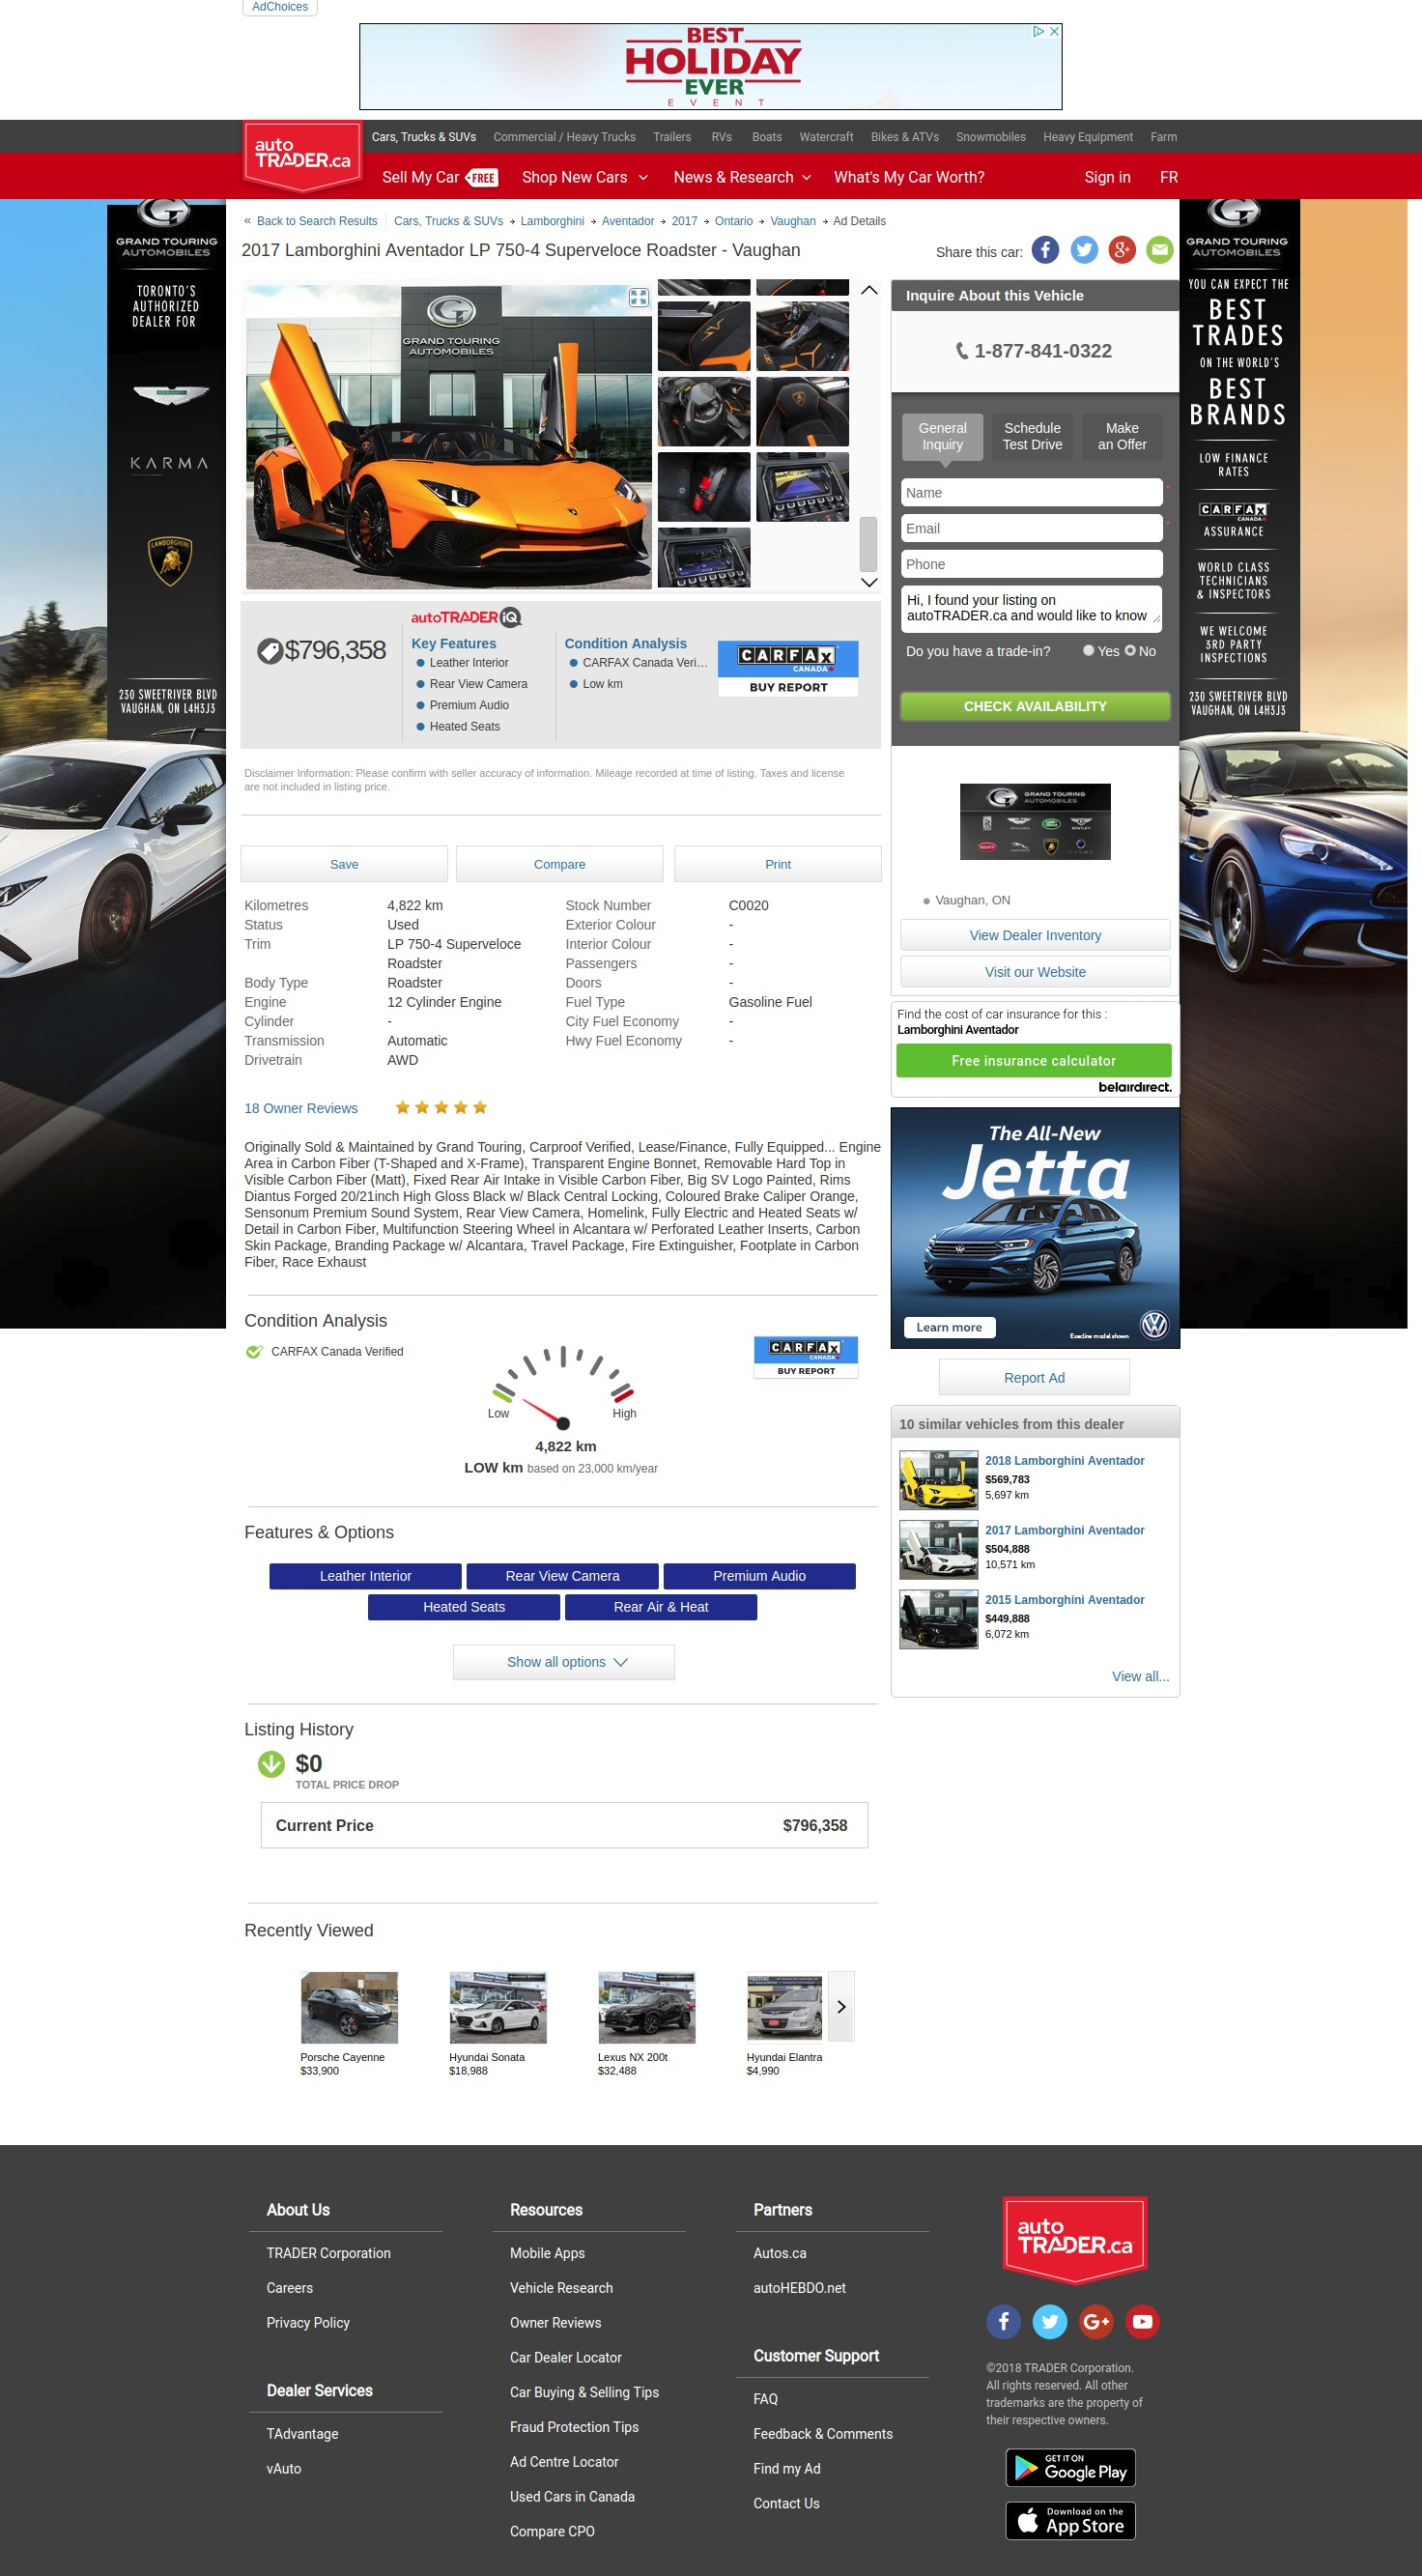car: (860, 578, 881, 590)
